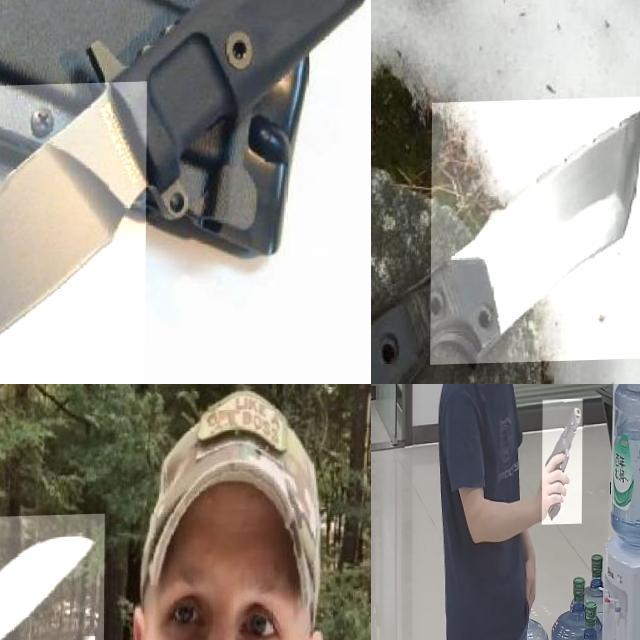-: (430, 99, 640, 366), (0, 83, 154, 384), (0, 515, 152, 640)
gun-knife-thesis - v11 Yolov5 augmented: (542, 402, 583, 528)
